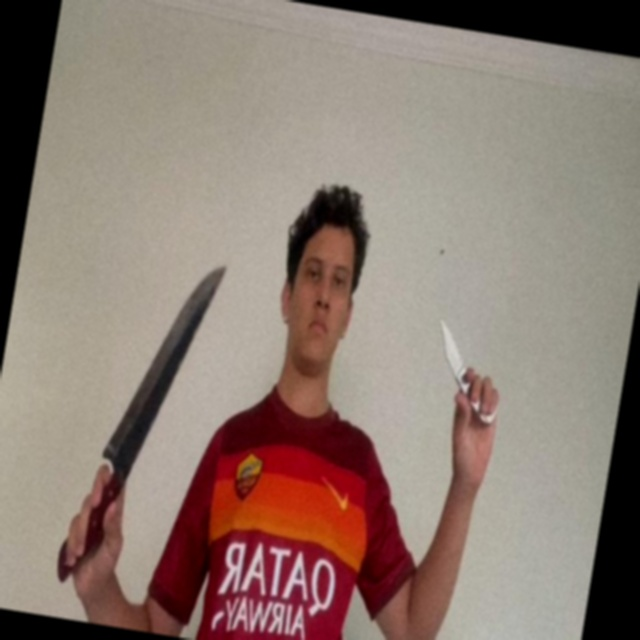Sharp-Object: (103, 251, 227, 472), (431, 318, 469, 381)
